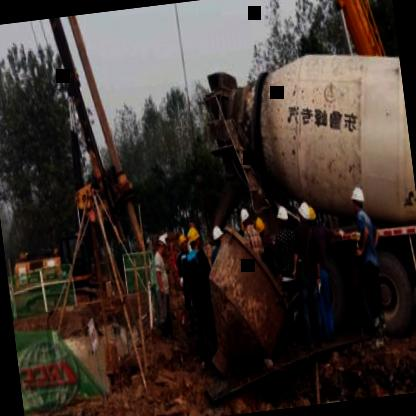helmet: (348, 180, 368, 219), (186, 226, 204, 259), (296, 199, 313, 229), (252, 215, 268, 245), (274, 204, 290, 232), (306, 206, 322, 234), (153, 233, 169, 260), (237, 204, 252, 232), (210, 222, 223, 252)
